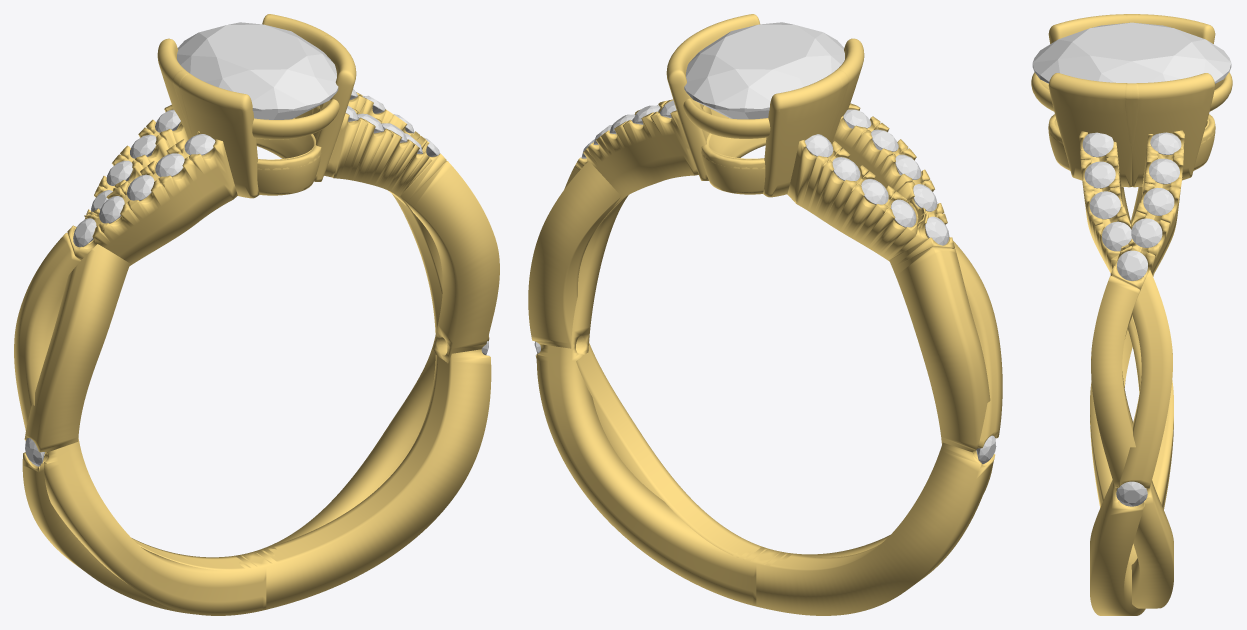
Rendered from diamond-oval-yellowgold-halfmoonbezel-twist-sidestones.glb.
The picture shows the model from 3 angles, left to right: view 1: azimuth 30°, elevation 25°; view 2: azimuth 150°, elevation 25°; view 3: azimuth 270°, elevation 25°; orthographic projection.
Visible parts, largest first — view 1: metal.003, stone; view 2: metal.003, stone; view 3: metal.003, stone, Twist shank diamonds.015, Twist shank diamonds.016, Twist shank diamonds.012, Twist shank diamonds.017, Twist shank diamonds.011, Twist shank diamonds.013, Twist shank diamonds.018, Twist shank diamonds.010, Twist shank diamonds.014, Twist shank diamonds.019.
Boxes of the visible parts, <box> form: metal.003: <box>14,14,499,615</box>; stone: <box>177,22,338,119</box>; metal.003: <box>528,14,1002,615</box>; stone: <box>684,22,844,119</box>; metal.003: <box>1031,14,1232,615</box>; stone: <box>1032,22,1231,83</box>; Twist shank diamonds.015: <box>1117,250,1147,280</box>; Twist shank diamonds.016: <box>1131,218,1162,247</box>; Twist shank diamonds.012: <box>1089,191,1120,219</box>; Twist shank diamonds.017: <box>1143,187,1174,215</box>; Twist shank diamonds.011: <box>1102,221,1132,251</box>; Twist shank diamonds.013: <box>1084,161,1115,188</box>; Twist shank diamonds.018: <box>1149,158,1179,184</box>; Twist shank diamonds.010: <box>1116,481,1147,506</box>; Twist shank diamonds.014: <box>1082,132,1113,157</box>; Twist shank diamonds.019: <box>1150,132,1181,154</box>.
Bounding box in the file's own units: 19.97 × 23.2 × 7.75.
